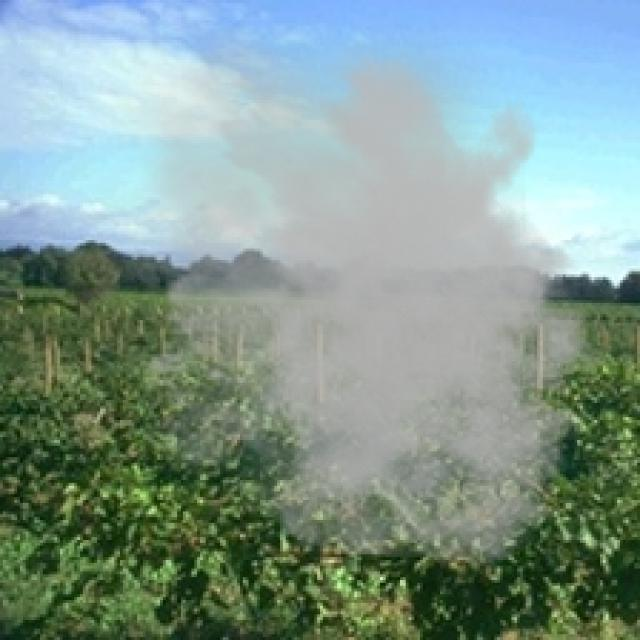Smoke: (80, 6, 626, 568)
